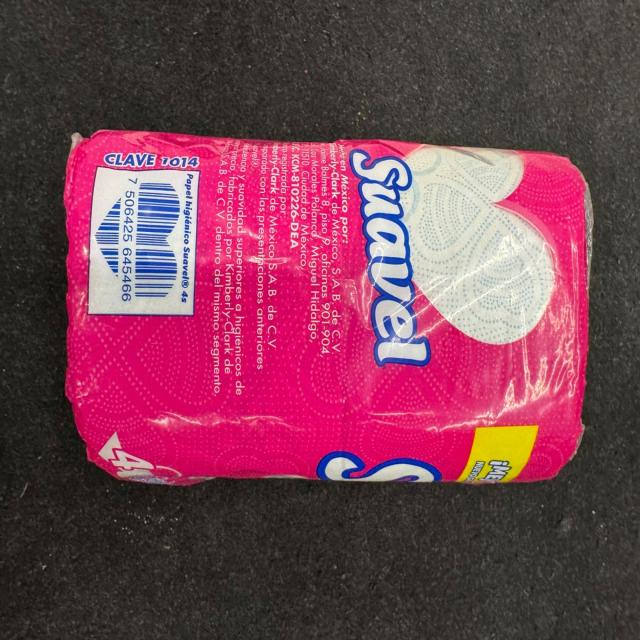Higienico Suavel 325h 4rollos: (67, 124, 593, 502)
